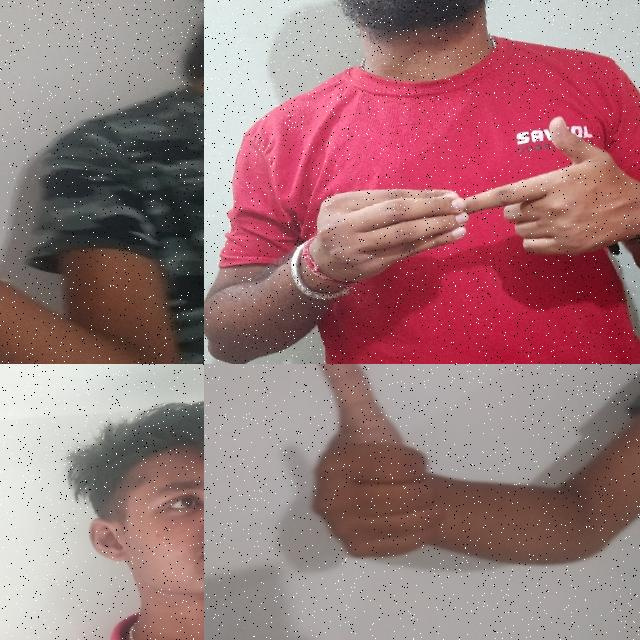Fist Mouth: (39, 366, 204, 640)
Five Fathers: (291, 97, 640, 318)
Reversed Victory: (0, 0, 48, 333)
Thumbs Up: (274, 364, 464, 588)
